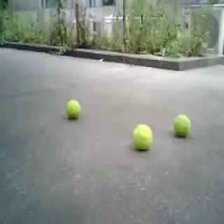tennis: (133, 125, 152, 149), (173, 115, 190, 137), (65, 99, 80, 116)
